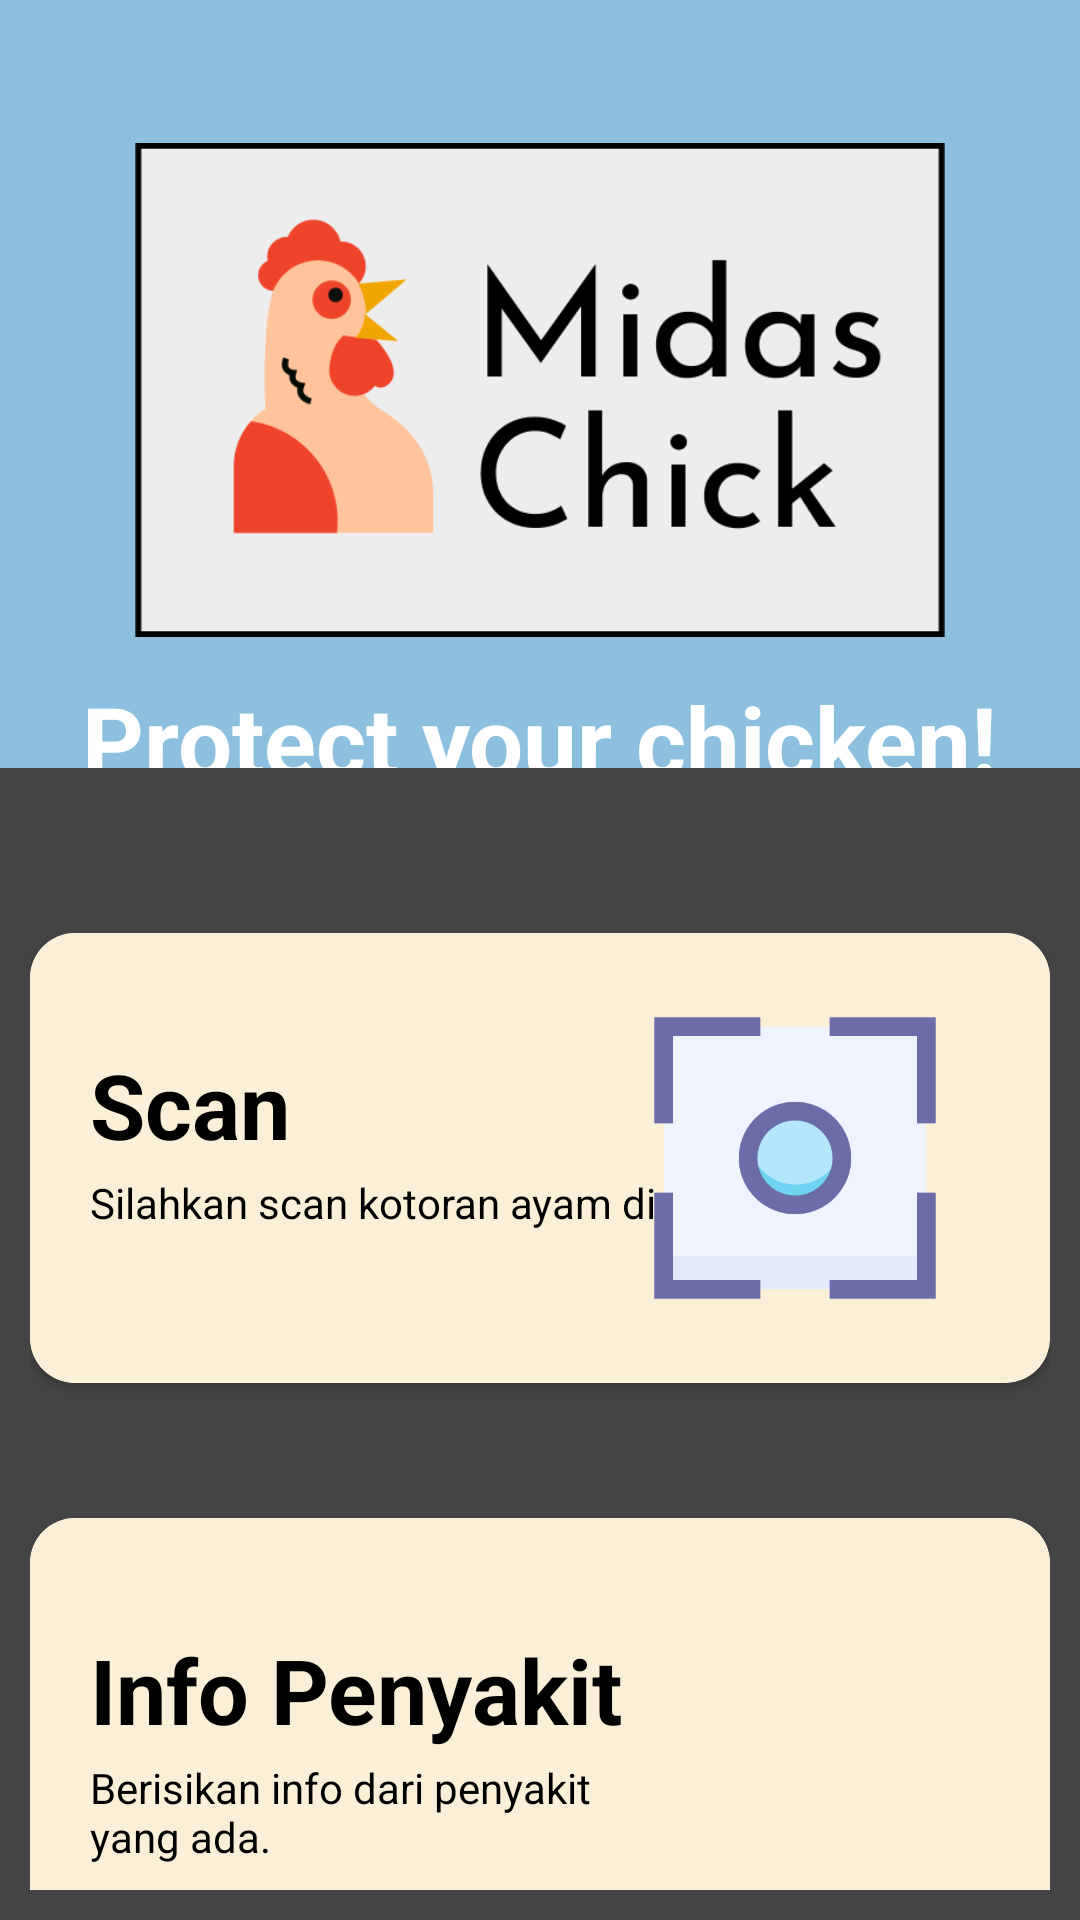

Where icons sit on this 1080x1920 app screen, as {"x1": x1, "y1": y1, "x2": x2, "y2": y2}:
scan camera: {"x1": 577, "y1": 1017, "x2": 936, "y2": 1299}
